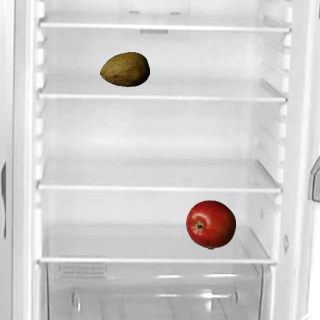Apple Braeburn: (185, 199, 235, 249)
Papaya: (99, 44, 149, 94)
